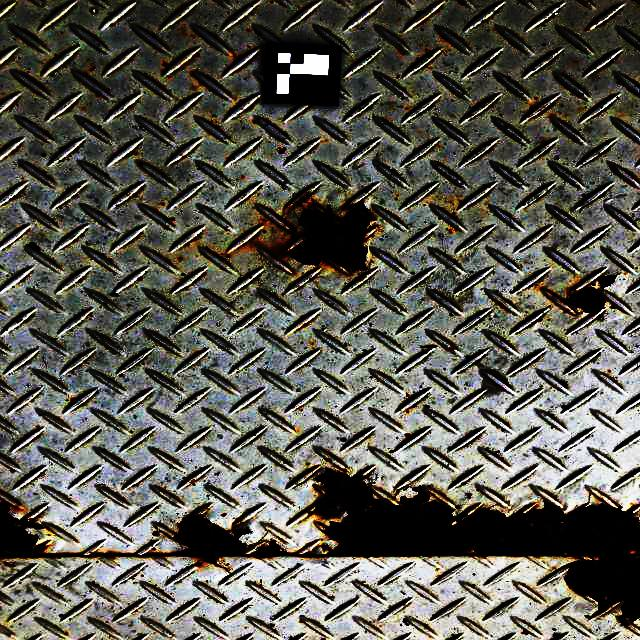Corrosion: (314, 465, 640, 621), (285, 195, 380, 274), (173, 515, 252, 565), (0, 498, 51, 559), (564, 287, 606, 313), (243, 540, 291, 560), (600, 273, 623, 287)
